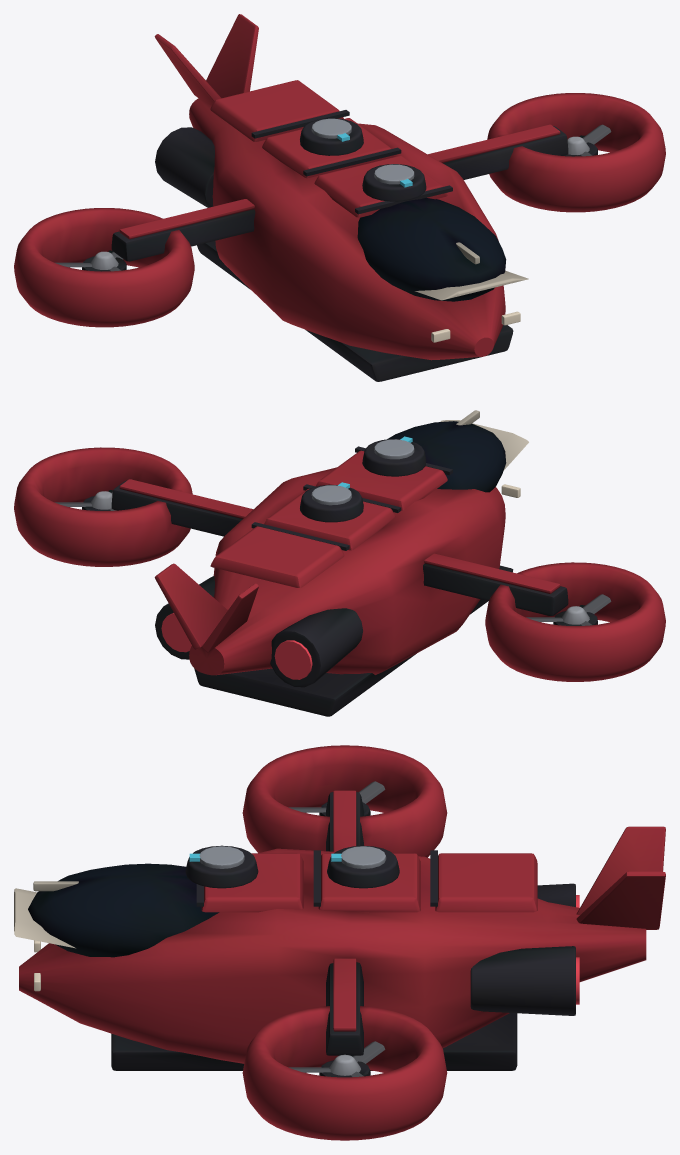
File: ex_gunship_1.glb
The picture shows the model from 3 angles, top to bottom: view 1: azimuth 30°, elevation 25°; view 2: azimuth 150°, elevation 25°; view 3: azimuth 270°, elevation 25°; orthographic projection. The views are drawn at different scales.
Visible parts, largest first — view 1: body, rotor_0, rotor_1; view 2: body, rotor_1, rotor_0; view 3: body, rotor_0.
Part boxes in pixels (x1=…): body: x1=14, y1=14, x2=665, y2=381; rotor_0: x1=567, y1=124, x2=611, y2=156; rotor_1: x1=55, y1=251, x2=123, y2=271; body: x1=14, y1=410, x2=665, y2=716; rotor_1: x1=526, y1=594, x2=611, y2=625; rotor_0: x1=55, y1=491, x2=116, y2=510; body: x1=14, y1=745, x2=665, y2=1140; rotor_0: x1=289, y1=1041, x2=385, y2=1076.
Size of the model in its own units: 9.33 by 2.34 by 7.42.
